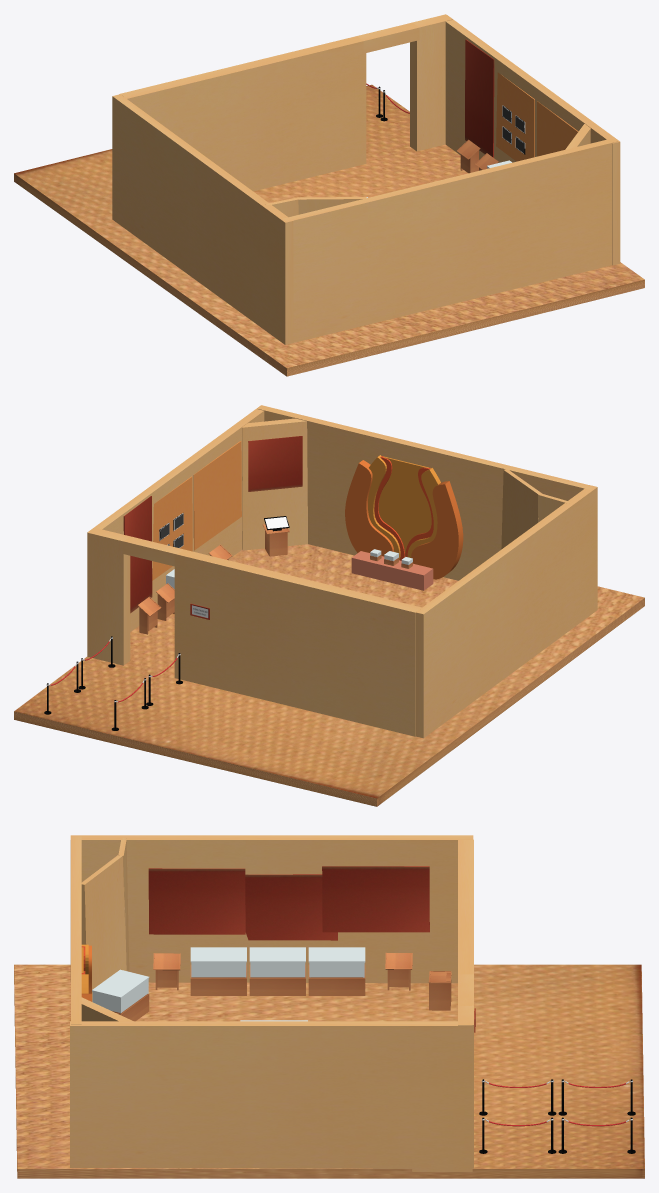
Rendered from House_01_no_roof.glb.
3 views of the same model, one above another, from view 1: azimuth 30°, elevation 25°; view 2: azimuth 150°, elevation 25°; view 3: azimuth 270°, elevation 25° (orthographic). The views are drawn at different scales.
Visible parts, largest first — view 1: Wall1, Floor, Wall3, Wall2_2, Wall4, Wall2_2__1_, treoanh, treoanh.001, treoanh_1.001, Wall2_3, Wall2_5; view 2: Floor, Wall2_2, Wall3, Wall1, Wall2_2__1_, Cube, Wall2_4, Wall4, treoanh_1.001, Plane, treoanh_3, treoanh.001 (+6 smaller); view 3: Floor, Wall4, Wall3, treoanh_1, treoanh_2, treoanh_4, Wall2_5, Wall2_2, Wall1, HopKinh4.002, HopKinh4.003, HopKinh4.004 (+12 smaller).
Boxes of the visible parts, x1=… form: Wall1: x1=282, y1=138, x2=617, y2=342; Floor: x1=14, y1=84, x2=644, y2=376; Wall3: x1=112, y1=94, x2=293, y2=344; Wall2_2: x1=120, y1=36, x2=366, y2=191; Wall4: x1=445, y1=15, x2=620, y2=265; Wall2_2__1_: x1=410, y1=14, x2=452, y2=151; treoanh: x1=465, y1=39, x2=494, y2=157; treoanh.001: x1=496, y1=72, x2=534, y2=161; treoanh_1.001: x1=537, y1=101, x2=578, y2=156; Wall2_3: x1=357, y1=22, x2=419, y2=53; Wall2_5: x1=298, y1=197, x2=366, y2=214; Floor: x1=14, y1=544, x2=644, y2=806; Wall2_2: x1=174, y1=549, x2=421, y2=736; Wall3: x1=416, y1=485, x2=597, y2=738; Wall1: x1=258, y1=405, x2=595, y2=580; Wall2_2__1_: x1=87, y1=527, x2=130, y2=665; Cube: x1=345, y1=460, x2=463, y2=579; Wall2_4: x1=242, y1=418, x2=307, y2=550; Wall4: x1=87, y1=405, x2=264, y2=631; treoanh_1.001: x1=193, y1=441, x2=241, y2=550; Plane: x1=378, y1=456, x2=431, y2=556; treoanh_3: x1=248, y1=436, x2=302, y2=491; treoanh.001: x1=152, y1=476, x2=192, y2=580; Floor: x1=14, y1=964, x2=644, y2=1178; Wall4: x1=70, y1=1021, x2=472, y2=1171; Wall3: x1=70, y1=835, x2=473, y2=983; treoanh_1: x1=322, y1=866, x2=429, y2=932; treoanh_2: x1=148, y1=868, x2=245, y2=934; treoanh_4: x1=245, y1=874, x2=337, y2=940; Wall2_5: x1=81, y1=855, x2=126, y2=1001; Wall2_2: x1=458, y1=839, x2=473, y2=974; Wall1: x1=71, y1=836, x2=81, y2=1024; HopKinh4.002: x1=308, y1=965, x2=365, y2=995; HopKinh4.003: x1=249, y1=964, x2=305, y2=995; HopKinh4.004: x1=190, y1=964, x2=246, y2=995.
Bounding box in the file's own units: 90.79 × 31.65 × 118.
Materials: 43 (23 with a texture image).
